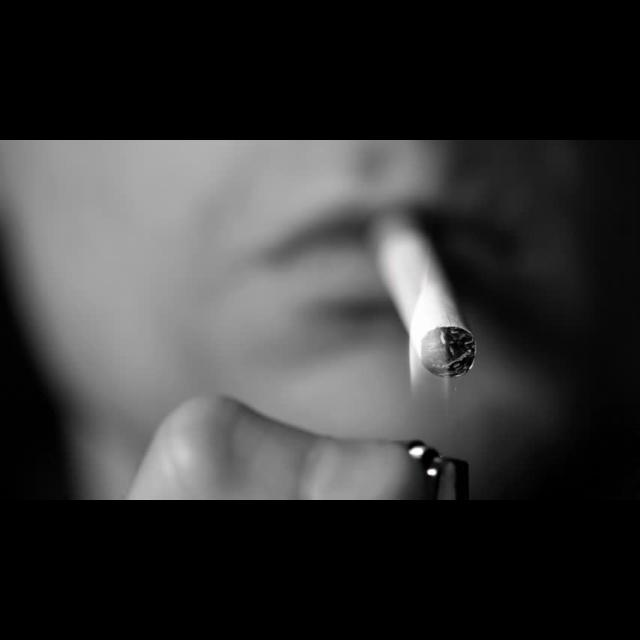rokok: (366, 215, 484, 387)
